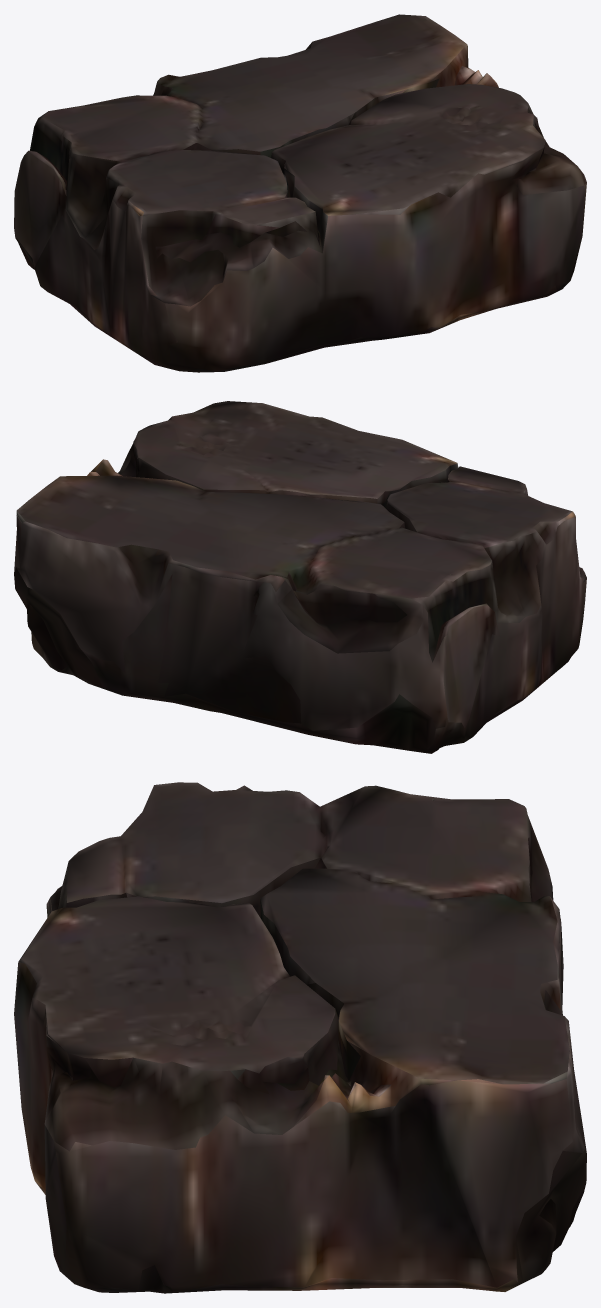
Rendered from roca2.movil.glb.
The picture shows the model from 3 angles, top to bottom: view 1: azimuth 30°, elevation 25°; view 2: azimuth 150°, elevation 25°; view 3: azimuth 270°, elevation 25°; orthographic projection. The views are drawn at different scales.
Parts seen in each view (by area): view 1: geometry_0; view 2: geometry_0; view 3: geometry_0.
Part boxes in pixels (x1,y1,x2,y2): geometry_0: [14, 14, 586, 372]; geometry_0: [14, 401, 586, 753]; geometry_0: [14, 782, 586, 1293].
Size of the model in its own units: 1 by 0.3476 by 0.8.
Materials: 1 (1 with a texture image).
